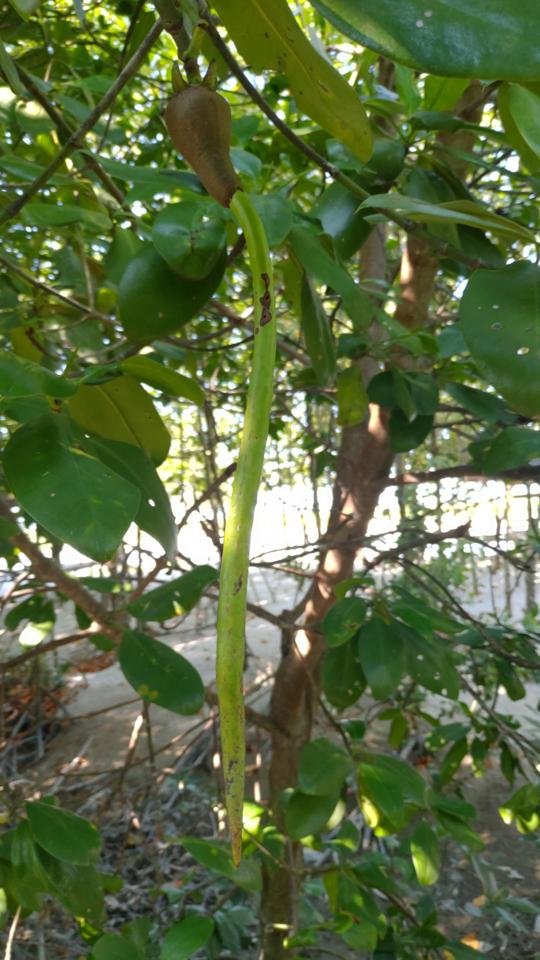mentah: (145, 58, 286, 885)
